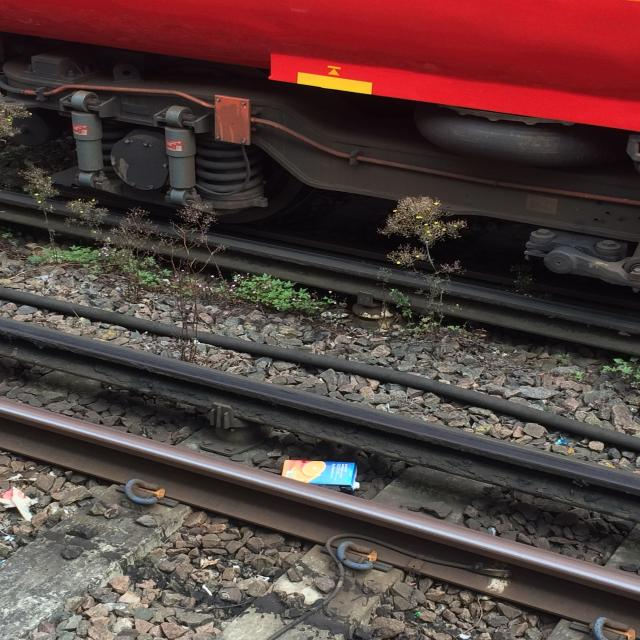litter: (283, 462, 358, 488)
